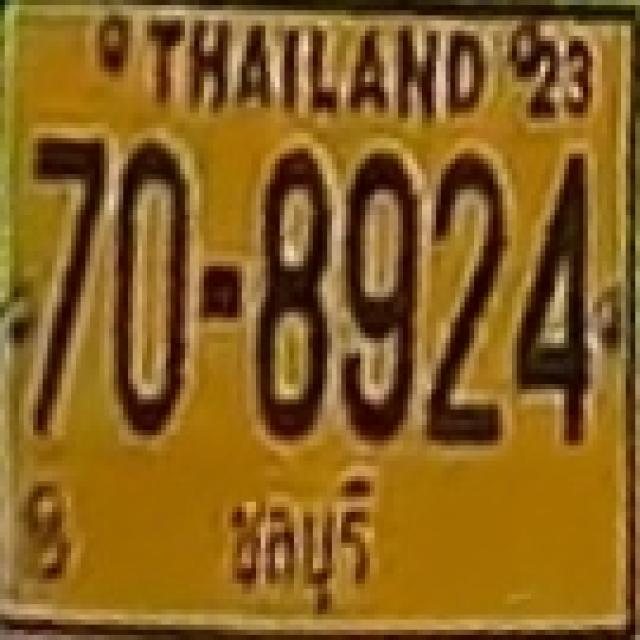0: (106, 133, 203, 440)
2: (421, 141, 513, 446)
4: (513, 149, 602, 448)
7: (23, 133, 104, 437)
8: (251, 151, 327, 433)
9: (337, 144, 420, 436)
CBI: (219, 468, 376, 618)
